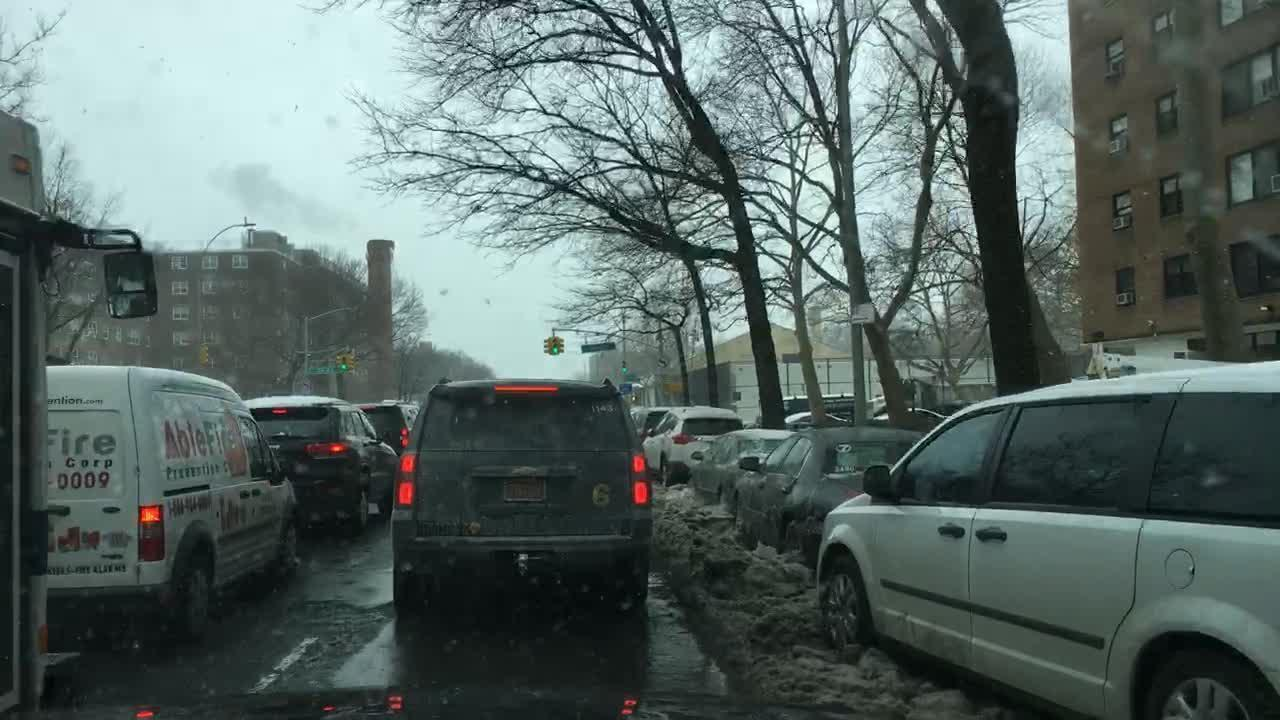chevrolet: (508, 457, 547, 480)
